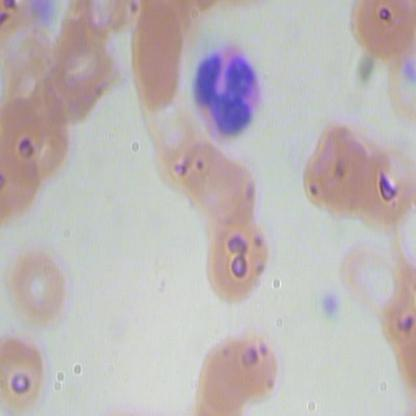Platelets: (315, 291, 341, 319)
RBC: (338, 232, 410, 322), (129, 1, 183, 115), (9, 238, 75, 330), (223, 317, 289, 409), (0, 324, 66, 415), (353, 136, 415, 226), (299, 127, 356, 219), (322, 126, 379, 218), (191, 334, 250, 415), (216, 215, 275, 296), (346, 1, 416, 64), (202, 158, 260, 230)
WBC: (183, 36, 268, 146)
